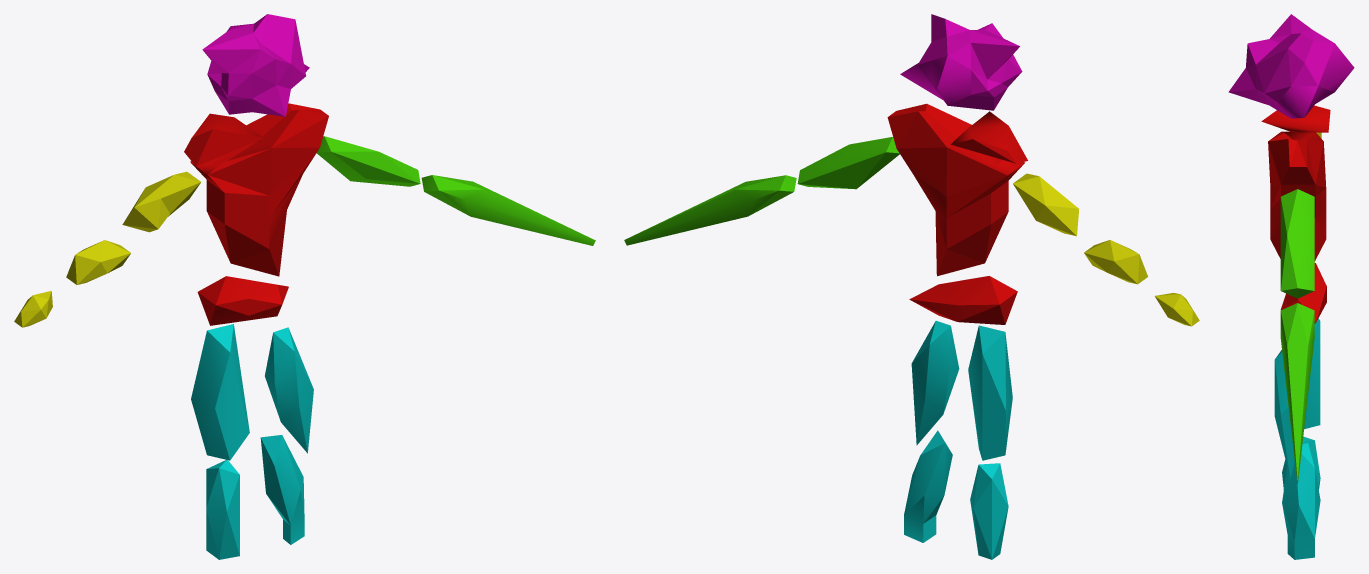
The model's file is NormalEnemy.fbx.
The picture shows the model from 3 angles, left to right: view 1: azimuth 30°, elevation 25°; view 2: azimuth 150°, elevation 25°; view 3: azimuth 270°, elevation 25°; orthographic projection. The views are drawn at different scales.
Visible parts, largest first — view 1: Platonic_12_1, Platonic_14, Platonic, Platonic_1_1, Platonic_4, Platonic_2, Platonic_6, Platonic_5, Platonic_1, Platonic_3, Platonic_12_1_1; view 2: Platonic_12_1, Platonic_14, Platonic_1_1, Platonic, Platonic_4, Platonic_2, Platonic_6, Platonic_5, Platonic_3, Platonic_1, Platonic_12_1_1; view 3: Platonic_14, Platonic_12_1, Platonic_4, Platonic_3, Platonic_5, Platonic_2, Platonic_12_1_1, Platonic, Platonic_6, Platonic_1.
Boxes of the visible parts, x1,y1,x2,y2 form: Platonic_12_1: (190,103,328,276); Platonic_14: (202,14,309,116); Platonic: (191,324,249,460); Platonic_1_1: (14,171,200,327); Platonic_4: (421,175,595,245); Platonic_2: (265,327,313,453); Platonic_6: (197,276,288,325); Platonic_5: (260,435,304,544); Platonic_1: (206,460,239,559); Platonic_3: (316,136,420,186); Platonic_12_1_1: (184,113,263,166); Platonic_12_1: (887,103,1024,276); Platonic_14: (900,14,1022,110); Platonic_1_1: (1013,173,1199,326); Platonic: (968,325,1012,460); Platonic_4: (624,175,796,245); Platonic_2: (911,320,959,445); Platonic_6: (909,276,1017,324); Platonic_5: (904,430,952,542); Platonic_3: (797,137,899,189); Platonic_1: (970,463,1008,559); Platonic_12_1_1: (950,111,1027,163); Platonic_14: (1228,14,1354,118); Platonic_12_1: (1268,131,1326,261); Platonic_4: (1280,303,1314,484); Platonic_3: (1280,189,1314,298); Platonic_5: (1282,443,1320,559); Platonic_2: (1274,350,1306,478); Platonic_12_1_1: (1261,105,1330,132); Platonic: (1304,318,1320,428); Platonic_6: (1280,263,1326,323); Platonic_1: (1282,436,1320,489).
Bounding box in the file's own units: 237 × 209 × 46.43.
